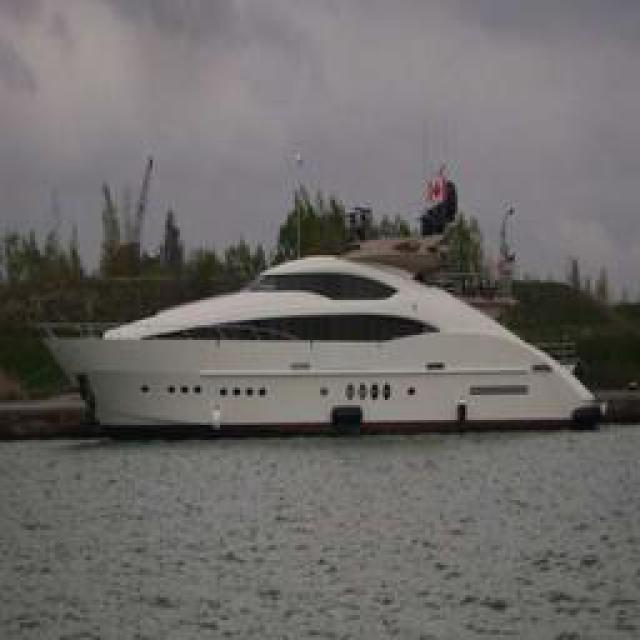Ship: (30, 251, 623, 441)
